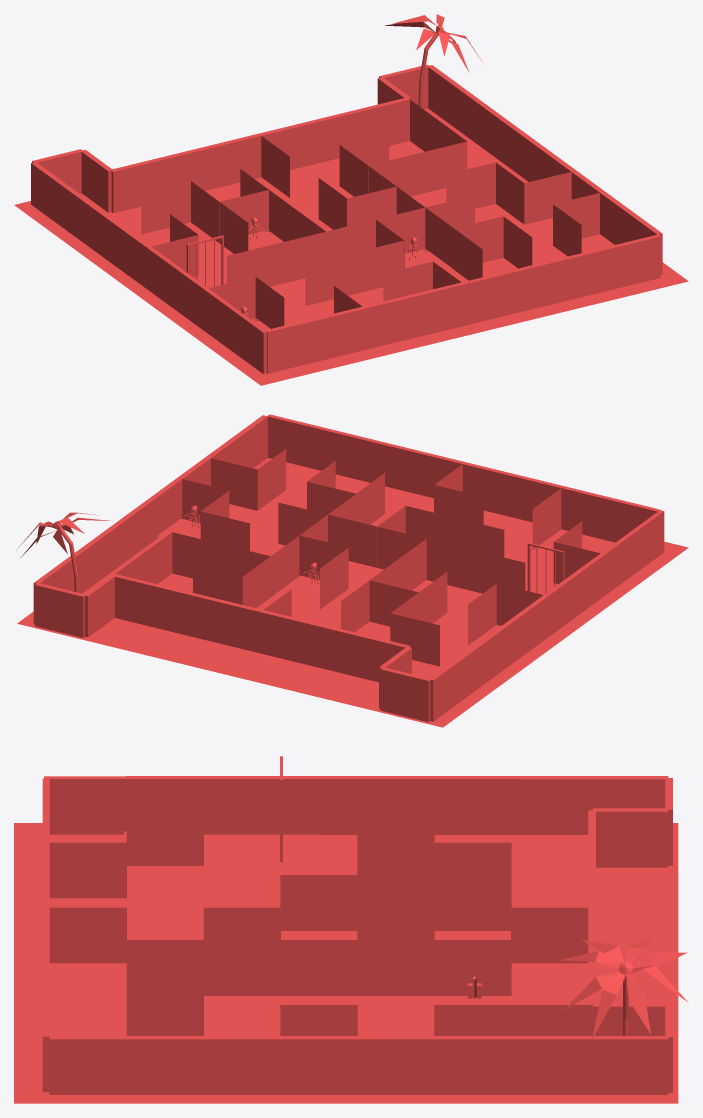
Rendered from labyrinthevide-sketchup.dae.
3 renders of one model, top to bottom at view 1: azimuth 30°, elevation 25°; view 2: azimuth 150°, elevation 25°; view 3: azimuth 270°, elevation 25°, orthographic. The views are drawn at different scales.
Parts seen in each view (by area): view 1: instance_0 (×27); view 2: instance_0 (×27); view 3: instance_0 (×19).
Part boxes in pixels (x1,y1,x2,y2): instance_0 (×27): (14,64,688,385); instance_0 (×27): (17,414,688,727); instance_0 (×19): (14,776,678,1103).
Bounding box in the file's own units: 35.01 × 34.55 × 8.41.
